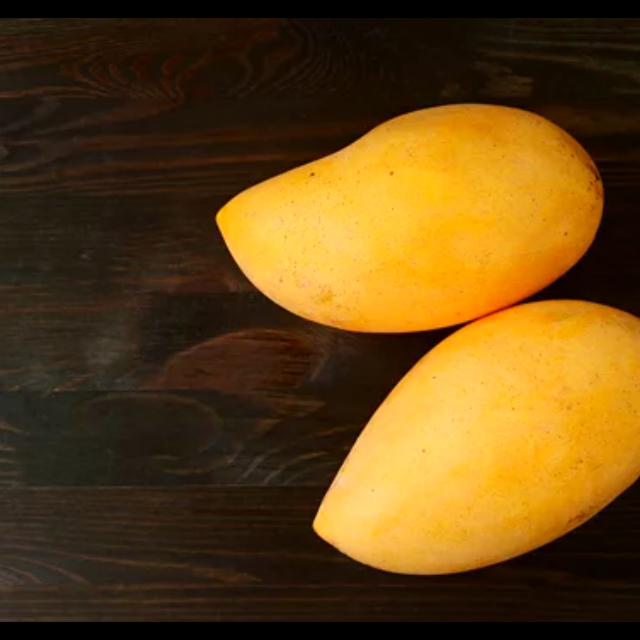mango: (306, 298, 640, 581), (215, 107, 613, 333)
